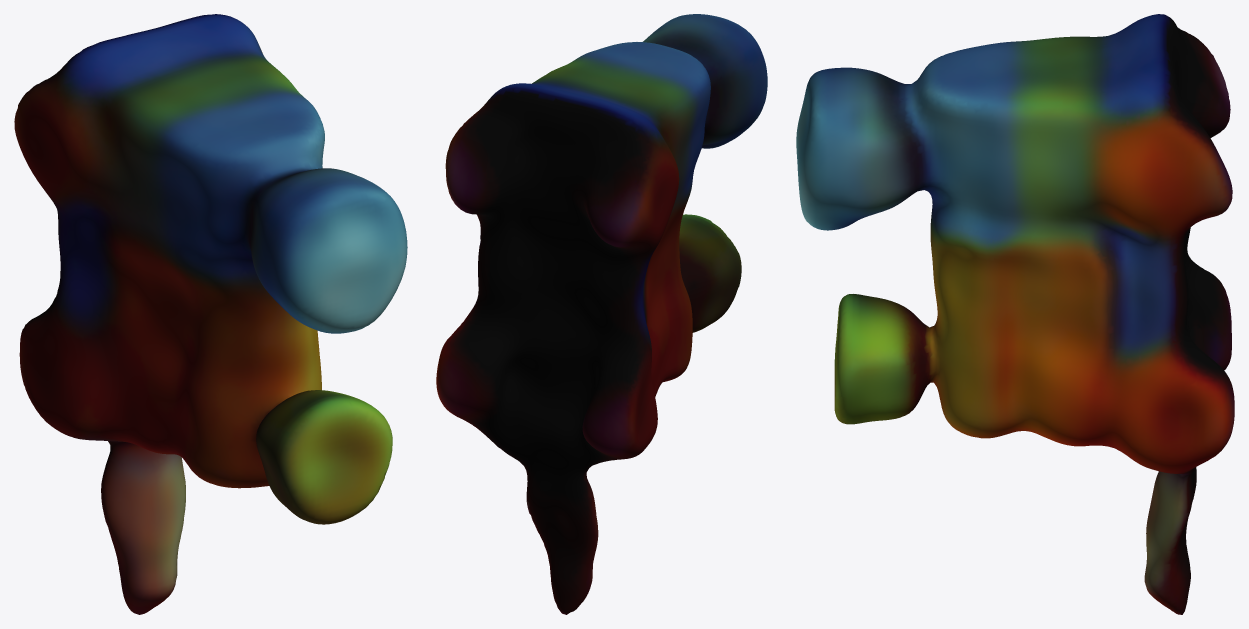
File: train.glb
3 views of the same model, side by side, from view 1: azimuth 30°, elevation 25°; view 2: azimuth 150°, elevation 25°; view 3: azimuth 270°, elevation 25° (orthographic). The views are drawn at different scales.
Size of the model in its own units: 0.4234 by 0.998 by 0.6904.
